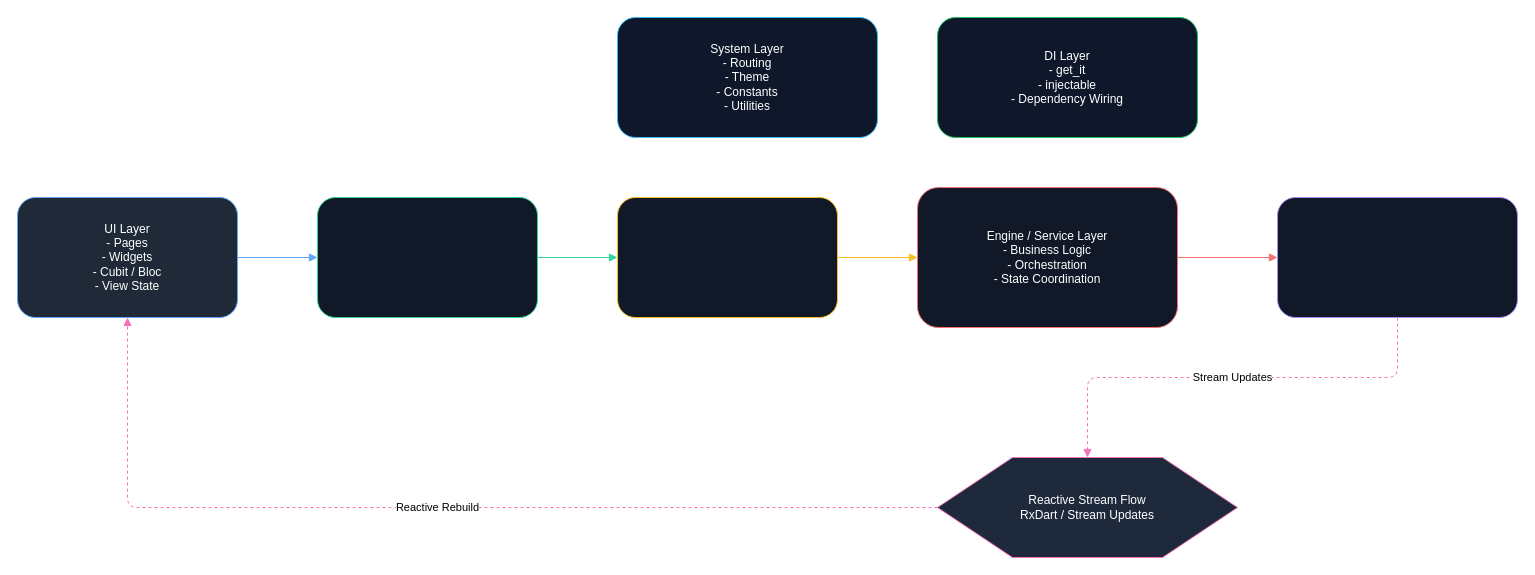
Image size: 1535x575. Some labels were removed from this diagram. The centre of each missing label's shape, as x and y in pixels:
DataSource Layer - State Storage - Cache - Stream Source: point 1397,257
Repository Layer - Thin Adapter - Clean API Exposure: point 727,257
UseCase Layer - Business Entry Points - Thin Abstraction Layer: point 427,257
